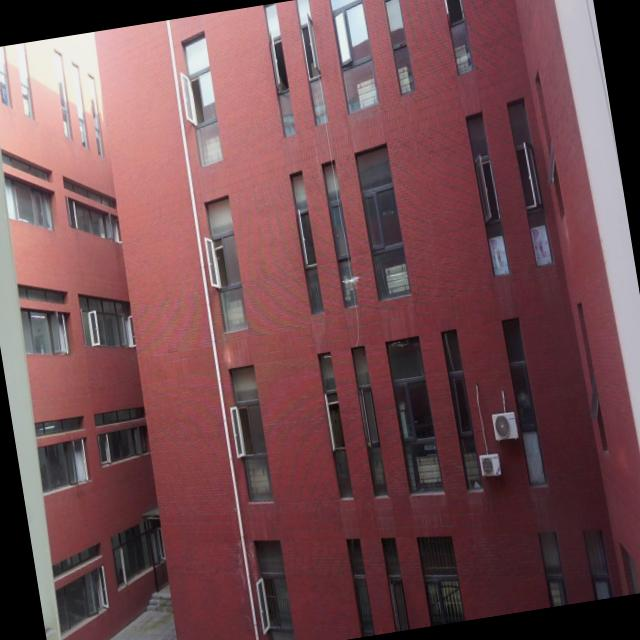drone: (340, 272, 364, 294)
